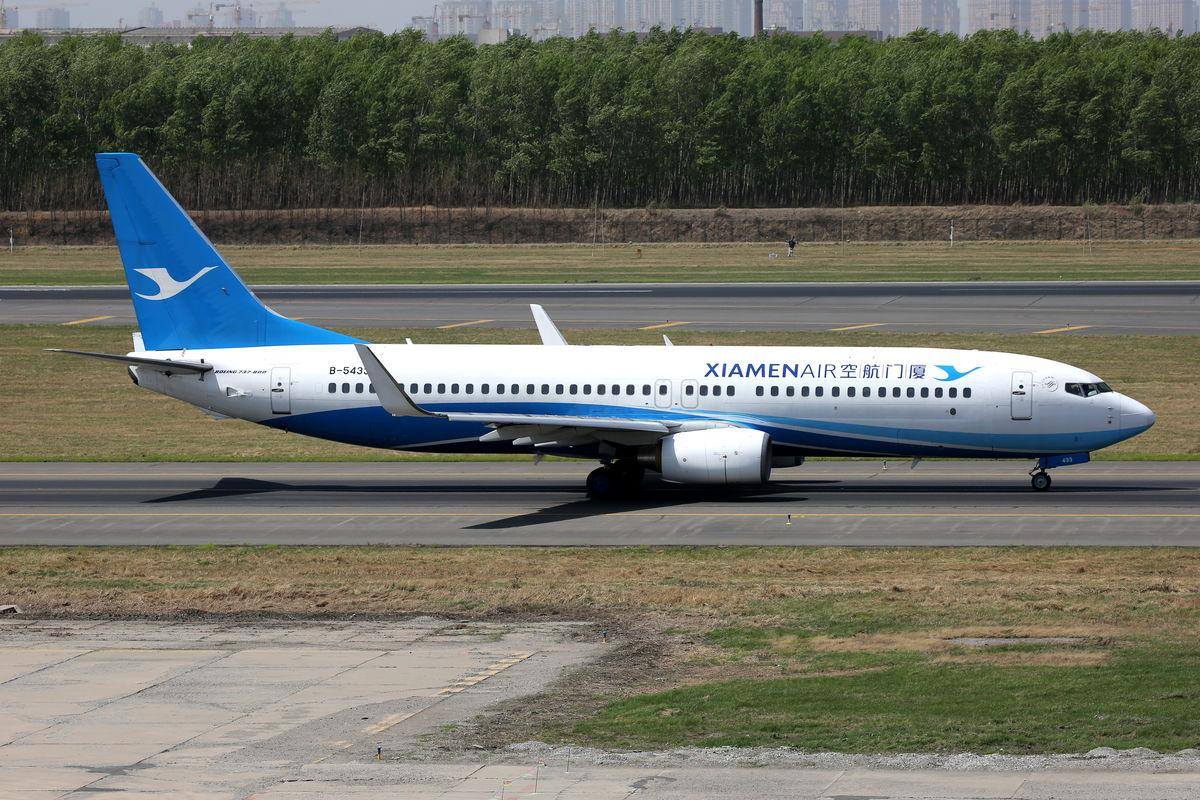airplane: (45, 146, 1163, 510)
